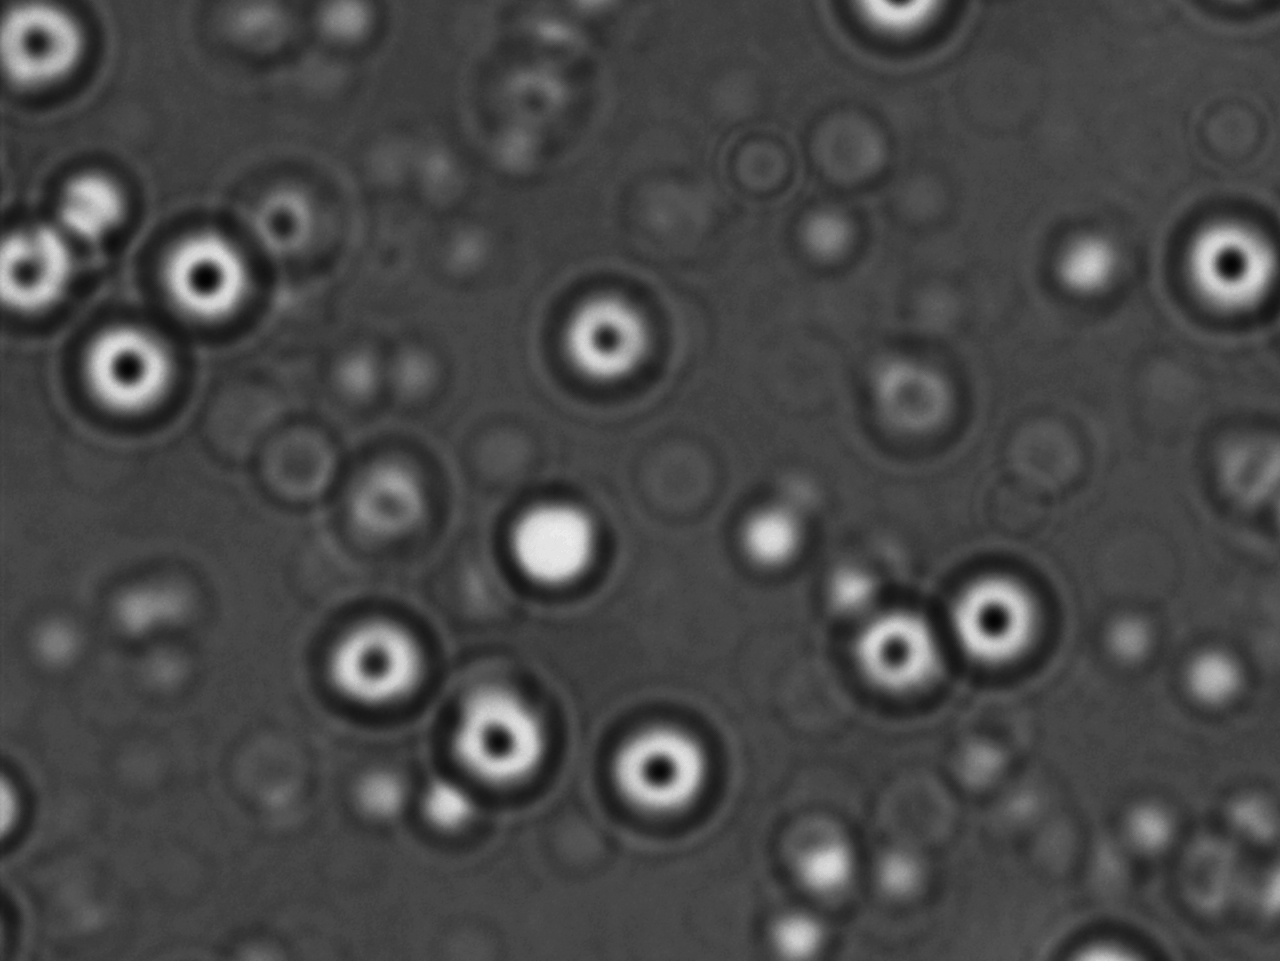depth:24: (530, 258, 678, 408), (931, 543, 1079, 692), (128, 202, 282, 344), (586, 691, 726, 844), (295, 593, 442, 734), (422, 666, 567, 808), (52, 307, 197, 448), (1153, 190, 1280, 333), (831, 589, 959, 725)
